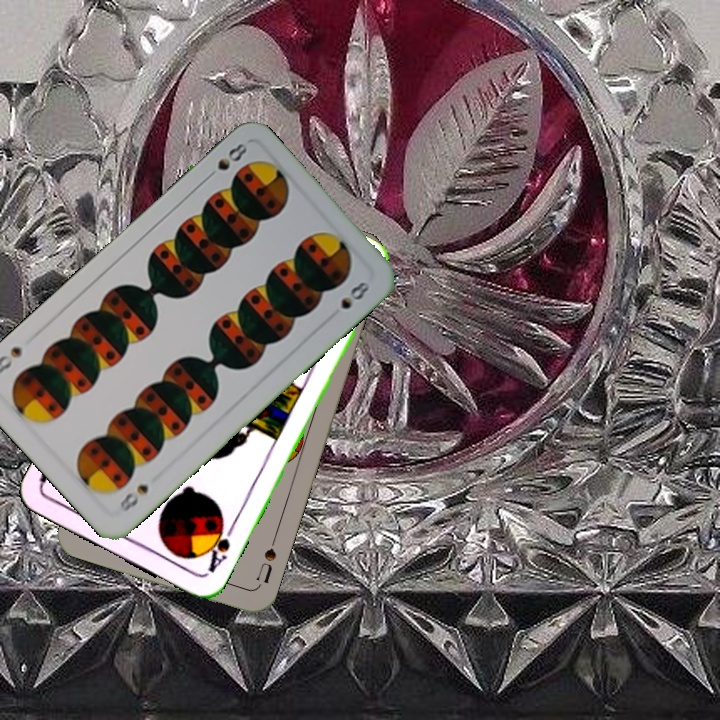S8: (201, 136, 250, 183), (115, 480, 152, 515)
SA: (201, 517, 237, 576)
SU: (252, 532, 279, 586)
